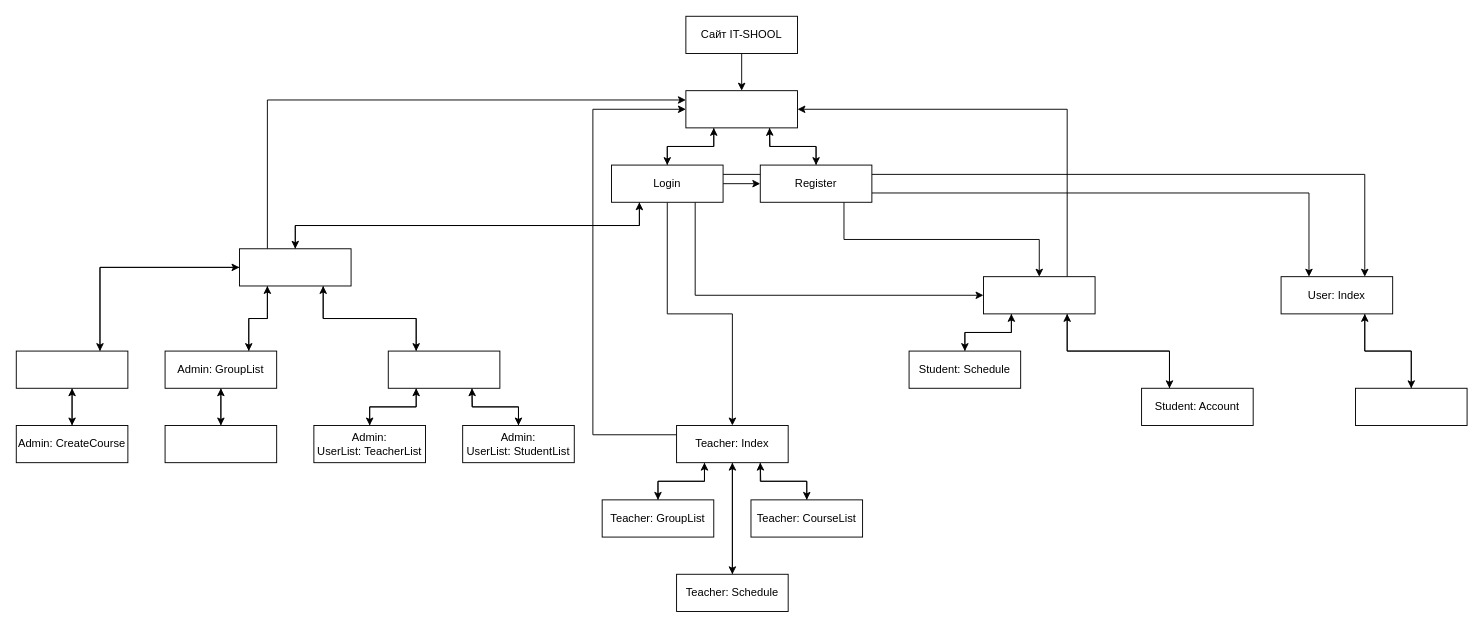
Image size: 1483x628. Some labels were removed from this diagram. Each missing label, with the centre of its shape:
"Admin: Course List" goes at pixel 71 369.
"Admin: CreateGroup" goes at pixel 220 444.
"Admin: Index" goes at pixel 295 267.
"Admin: User List" goes at pixel 443 369.
"Menu" goes at pixel 741 109.
"Student: Index" goes at pixel 1039 295.
"User: SignUp" goes at pixel 1411 406.
